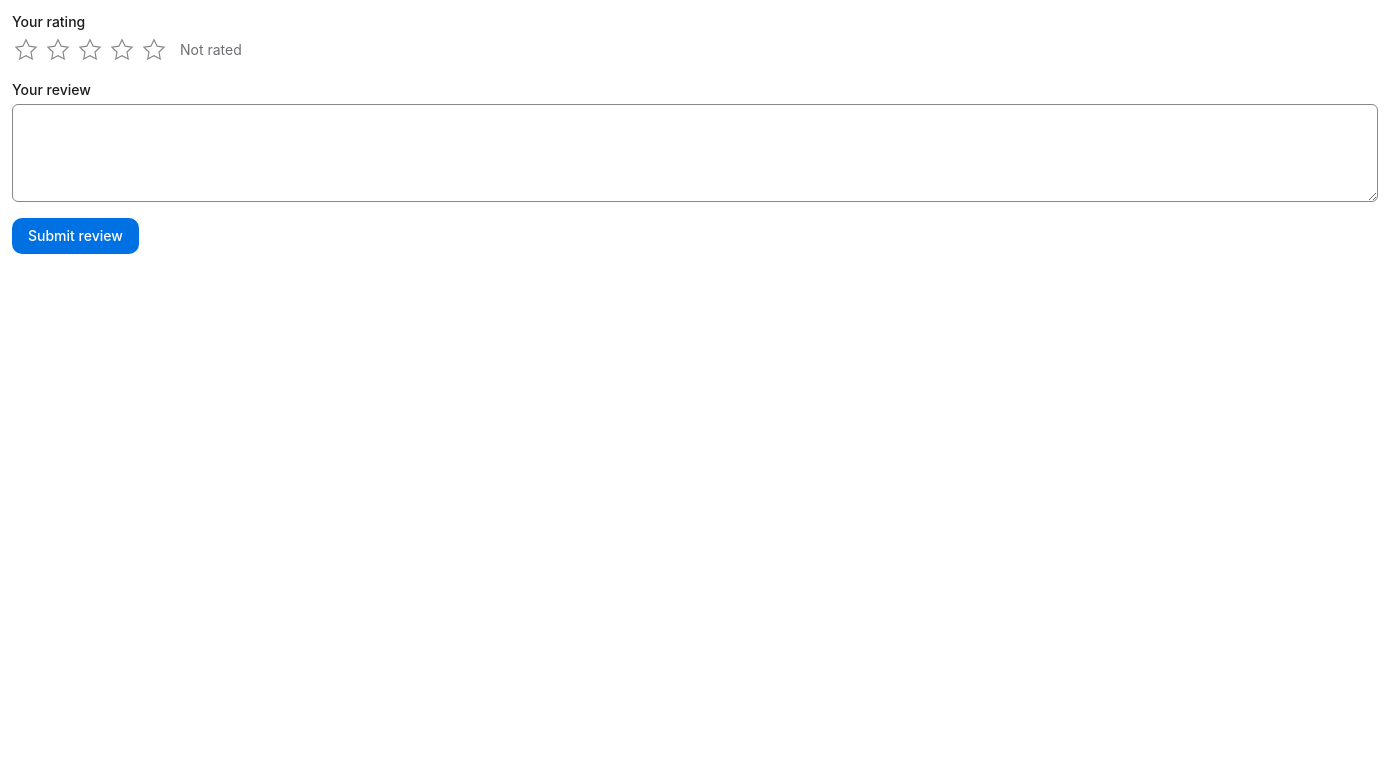
Test: ReviewForm › shows an error toast for other failures
The image size is (1390, 780).
Click the radio button named "4 of 5 stars" at (122,50), box [108,36,136,64]
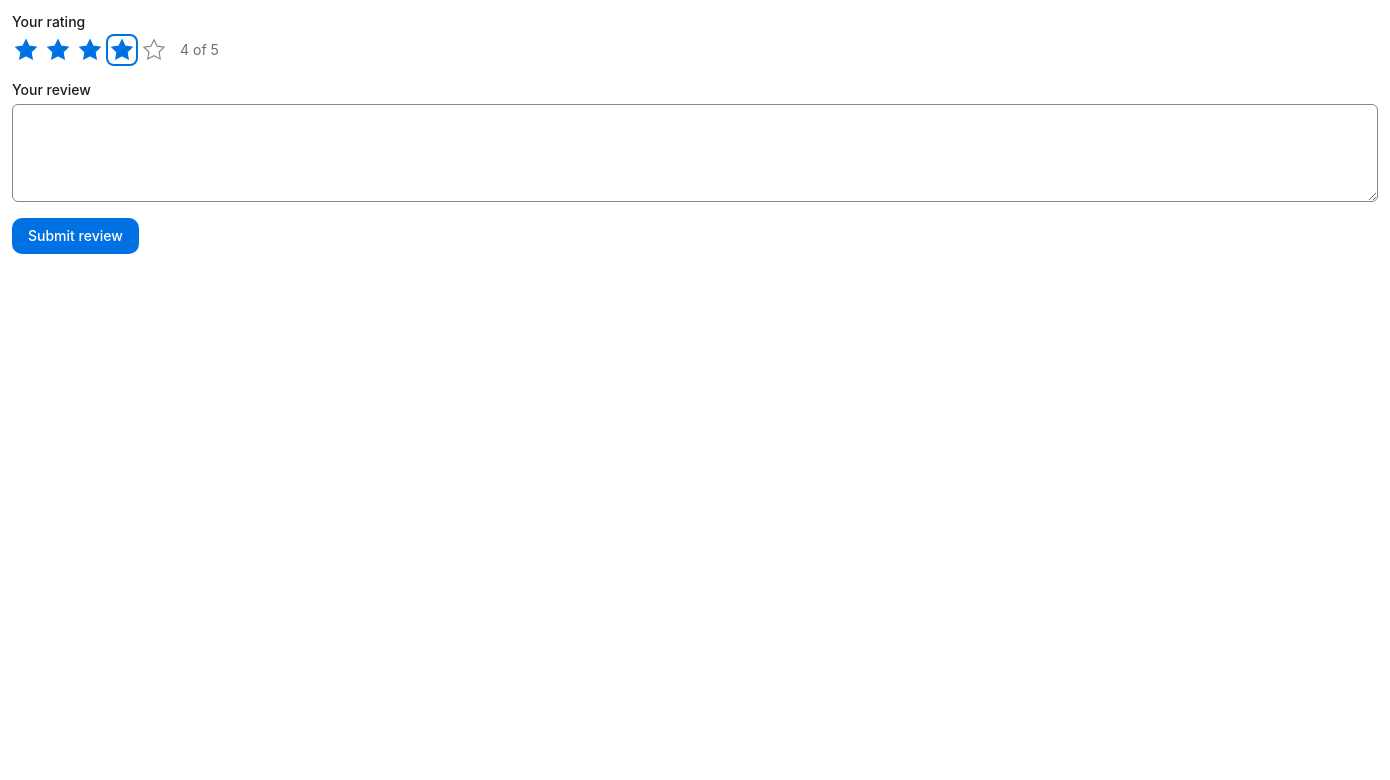
Type "Fine." into the text box labelled "Your review" at (695,153), box [12,104,1378,202]
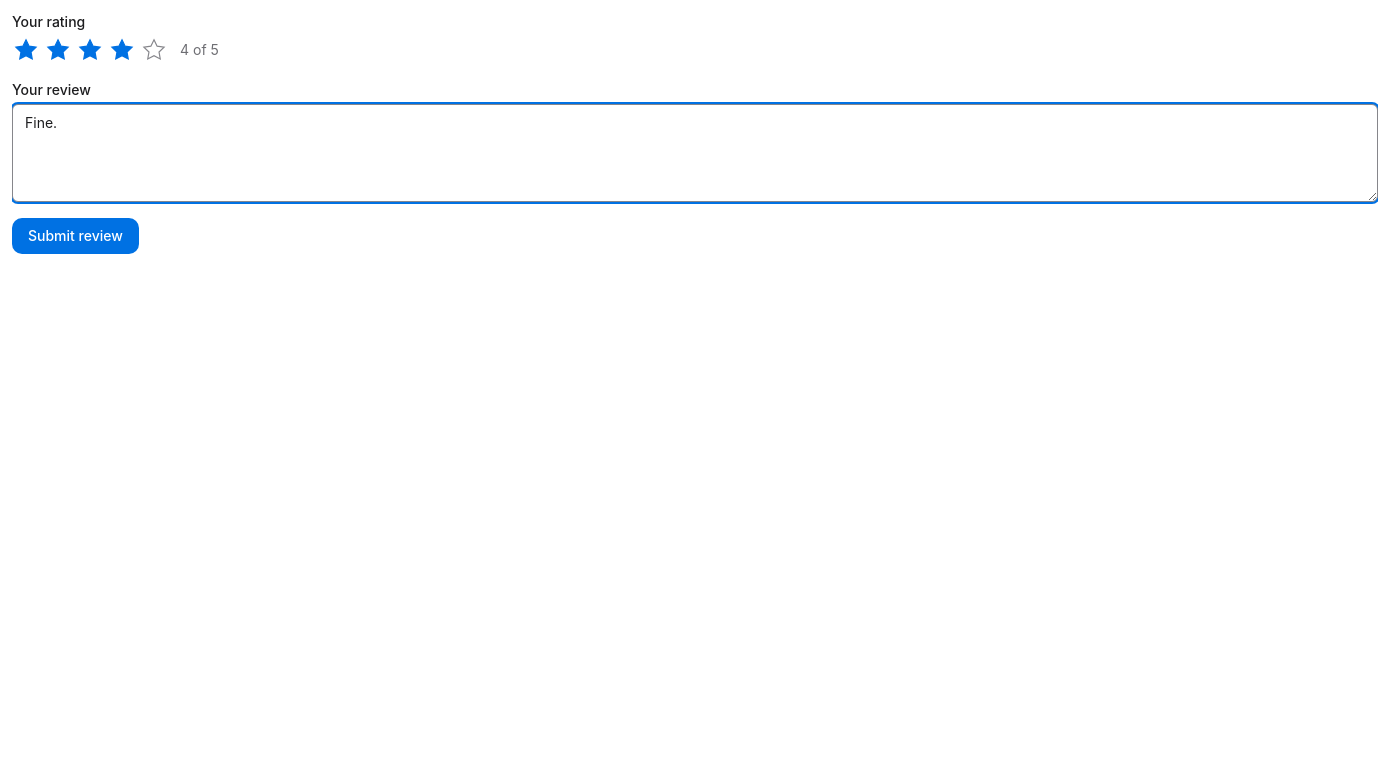
Click the button "Submit review" at (75,236), box [12,218,139,254]
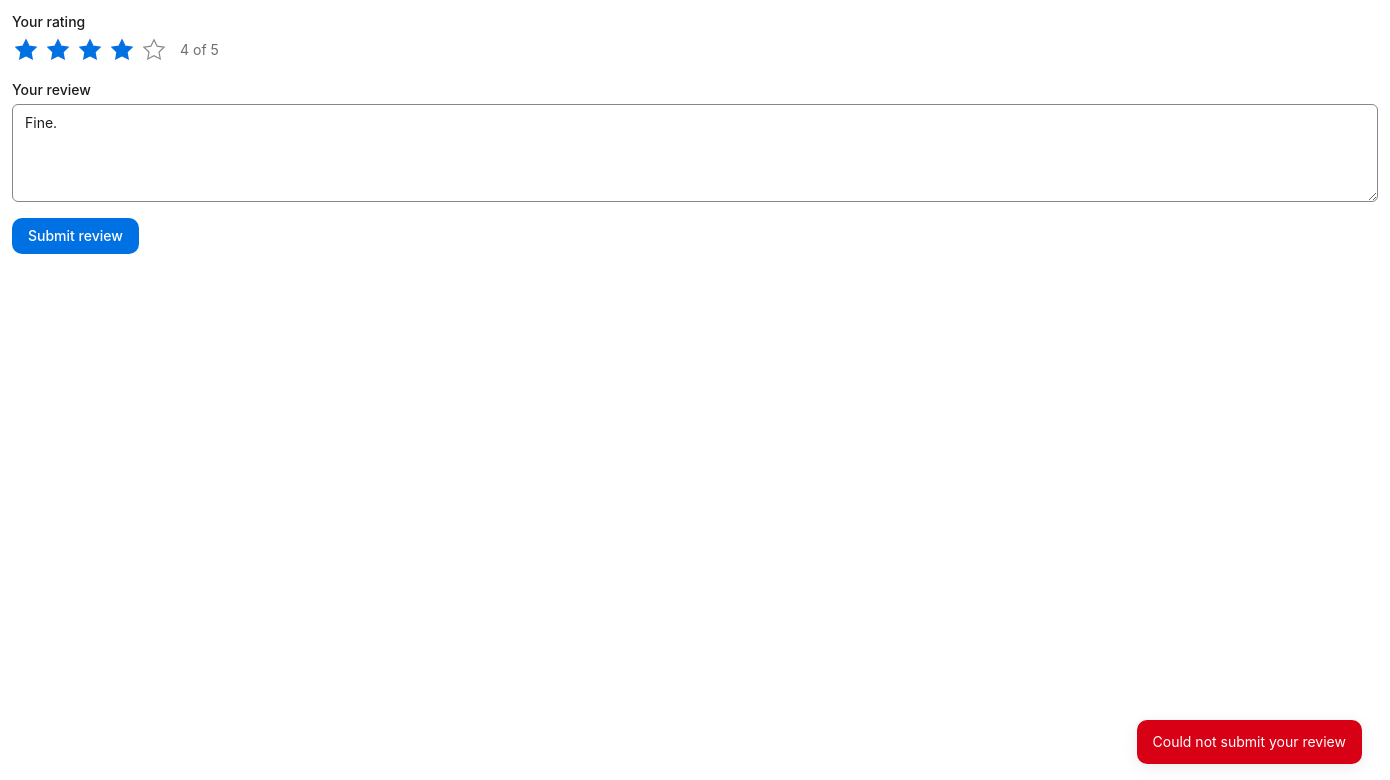
Expected: the text "Could not submit your review" is shown, [1137,720,1362,764]
